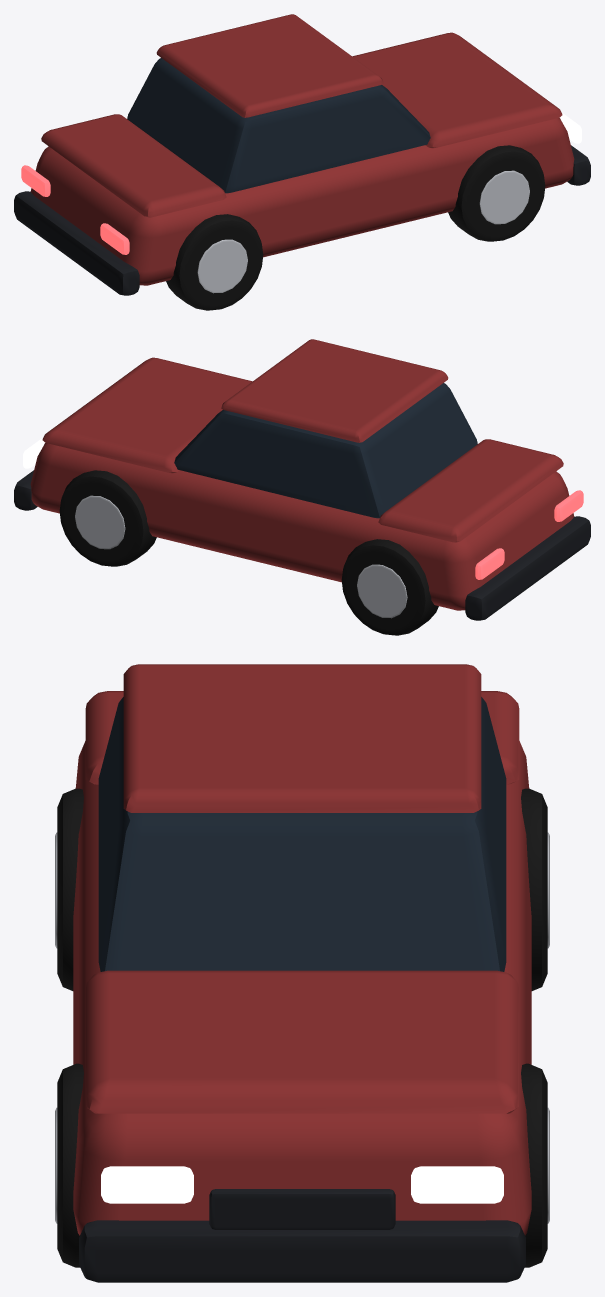
Rendered from sedan.glb.
3 renders of one model, top to bottom at view 1: azimuth 30°, elevation 25°; view 2: azimuth 150°, elevation 25°; view 3: azimuth 270°, elevation 25°, orthographic. The views are drawn at different scales.
Parts seen in each view (by area): view 1: body, cabin, roof, hood, trunk, wheel-+10--1-tyre, wheel--10--1-tyre, bumper-rear, wheel--10--1-hub, wheel-+10--1-hub, bumper-front, taillight--1 (+1 smaller); view 2: body, cabin, roof, hood, trunk, wheel-+10-1-tyre, wheel--10-1-tyre, bumper-rear, wheel--10-1-hub, wheel-+10-1-hub, bumper-front, taillight-1 (+1 smaller); view 3: cabin, hood, roof, body, bumper-front, grille, trunk, wheel-+10-1-tyre, wheel-+10--1-tyre, wheel--10-1-tyre, wheel--10--1-tyre, headlight-1 (+1 smaller).
Boxes of the visible parts, box(x1,y1,x2,y2) form: body: box(30, 118, 574, 285); cabin: box(127, 58, 430, 193); roof: box(156, 14, 383, 117); hood: box(352, 32, 562, 148); trunk: box(41, 114, 226, 217); wheel-+10--1-tyre: box(448, 145, 545, 241); wheel--10--1-tyre: box(166, 214, 263, 310); bumper-rear: box(14, 191, 139, 295); wheel--10--1-hub: box(197, 239, 247, 293); wheel-+10--1-hub: box(479, 170, 529, 224); bumper-front: box(567, 145, 590, 185); taillight--1: box(100, 223, 129, 254); body: box(30, 443, 574, 610); cabin: box(174, 383, 477, 518); roof: box(221, 339, 448, 442); hood: box(42, 357, 252, 473); trunk: box(378, 439, 563, 542); wheel-+10-1-tyre: box(59, 470, 156, 566); wheel--10-1-tyre: box(341, 539, 438, 635); bumper-rear: box(465, 516, 590, 620); wheel--10-1-hub: box(357, 564, 407, 618); wheel-+10-1-hub: box(75, 495, 125, 549); bumper-front: box(14, 470, 37, 510); taillight-1: box(475, 548, 504, 579); cabin: box(98, 697, 506, 971); hood: box(86, 970, 518, 1113); roof: box(123, 664, 481, 812); body: box(73, 741, 531, 1235); bumper-front: box(79, 1220, 525, 1282); grille: box(209, 1189, 395, 1229); trunk: box(85, 691, 519, 784); wheel-+10-1-tyre: box(521, 1063, 547, 1267); wheel-+10--1-tyre: box(57, 1063, 83, 1267); wheel--10-1-tyre: box(521, 788, 547, 990); wheel--10--1-tyre: box(57, 788, 83, 990); headlight-1: box(411, 1166, 503, 1203).
Size of the model in its own units: 35.2 by 12.9 by 15.96.
